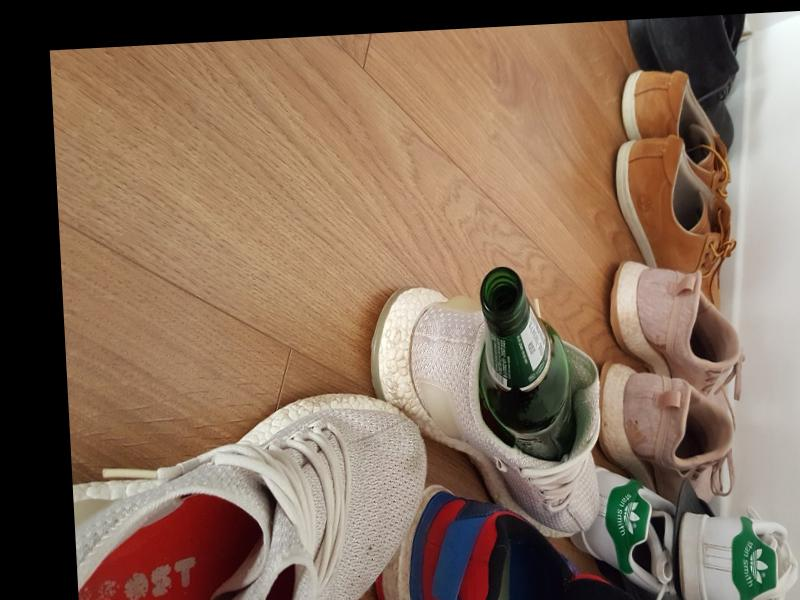Beer: (476, 262, 578, 462)
